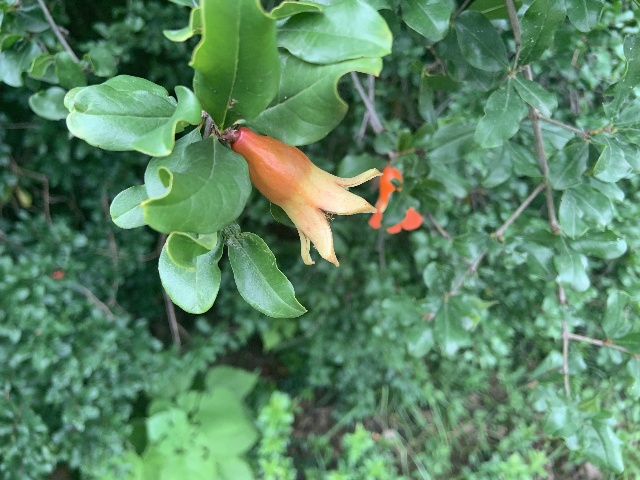early-fruit: (232, 127, 379, 267)
flower: (368, 166, 423, 233)
